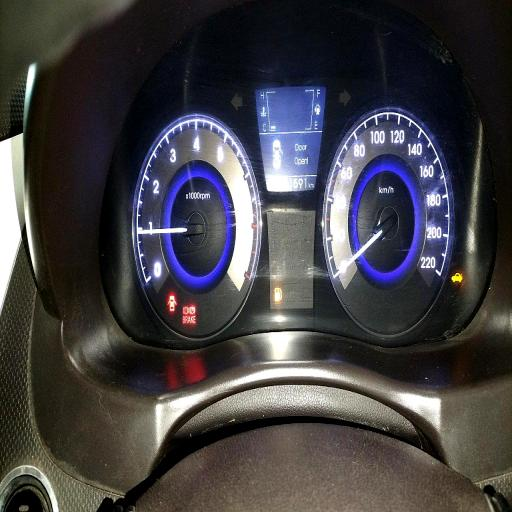brake_system_fault: (182, 306, 188, 314)
tachometer: (133, 112, 263, 342)
